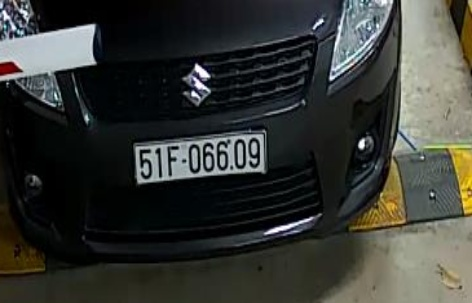plate: (127, 120, 285, 195)
